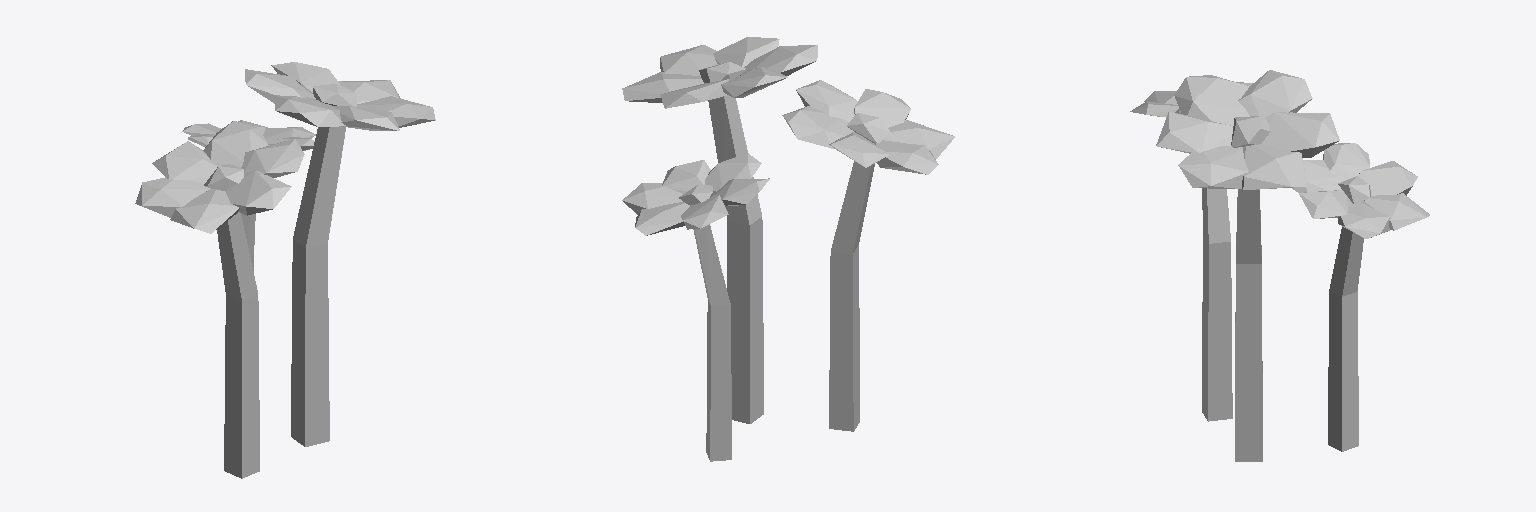
The model's file is flower6.obj.
3 renders of one model, left to right at view 1: azimuth 30°, elevation 25°; view 2: azimuth 150°, elevation 25°; view 3: azimuth 270°, elevation 25°, orthographic.
Visible parts, largest first — view 1: Flower3_2_Cube.014; view 2: Flower3_2_Cube.014; view 3: Flower3_2_Cube.014.
Boxes of the visible parts, x1,y1,x2,y2 form: Flower3_2_Cube.014: [135, 62, 435, 478]; Flower3_2_Cube.014: [622, 37, 954, 461]; Flower3_2_Cube.014: [1130, 70, 1429, 461].
Bounding box in the file's own units: 0.6366 × 0.7735 × 0.5832.